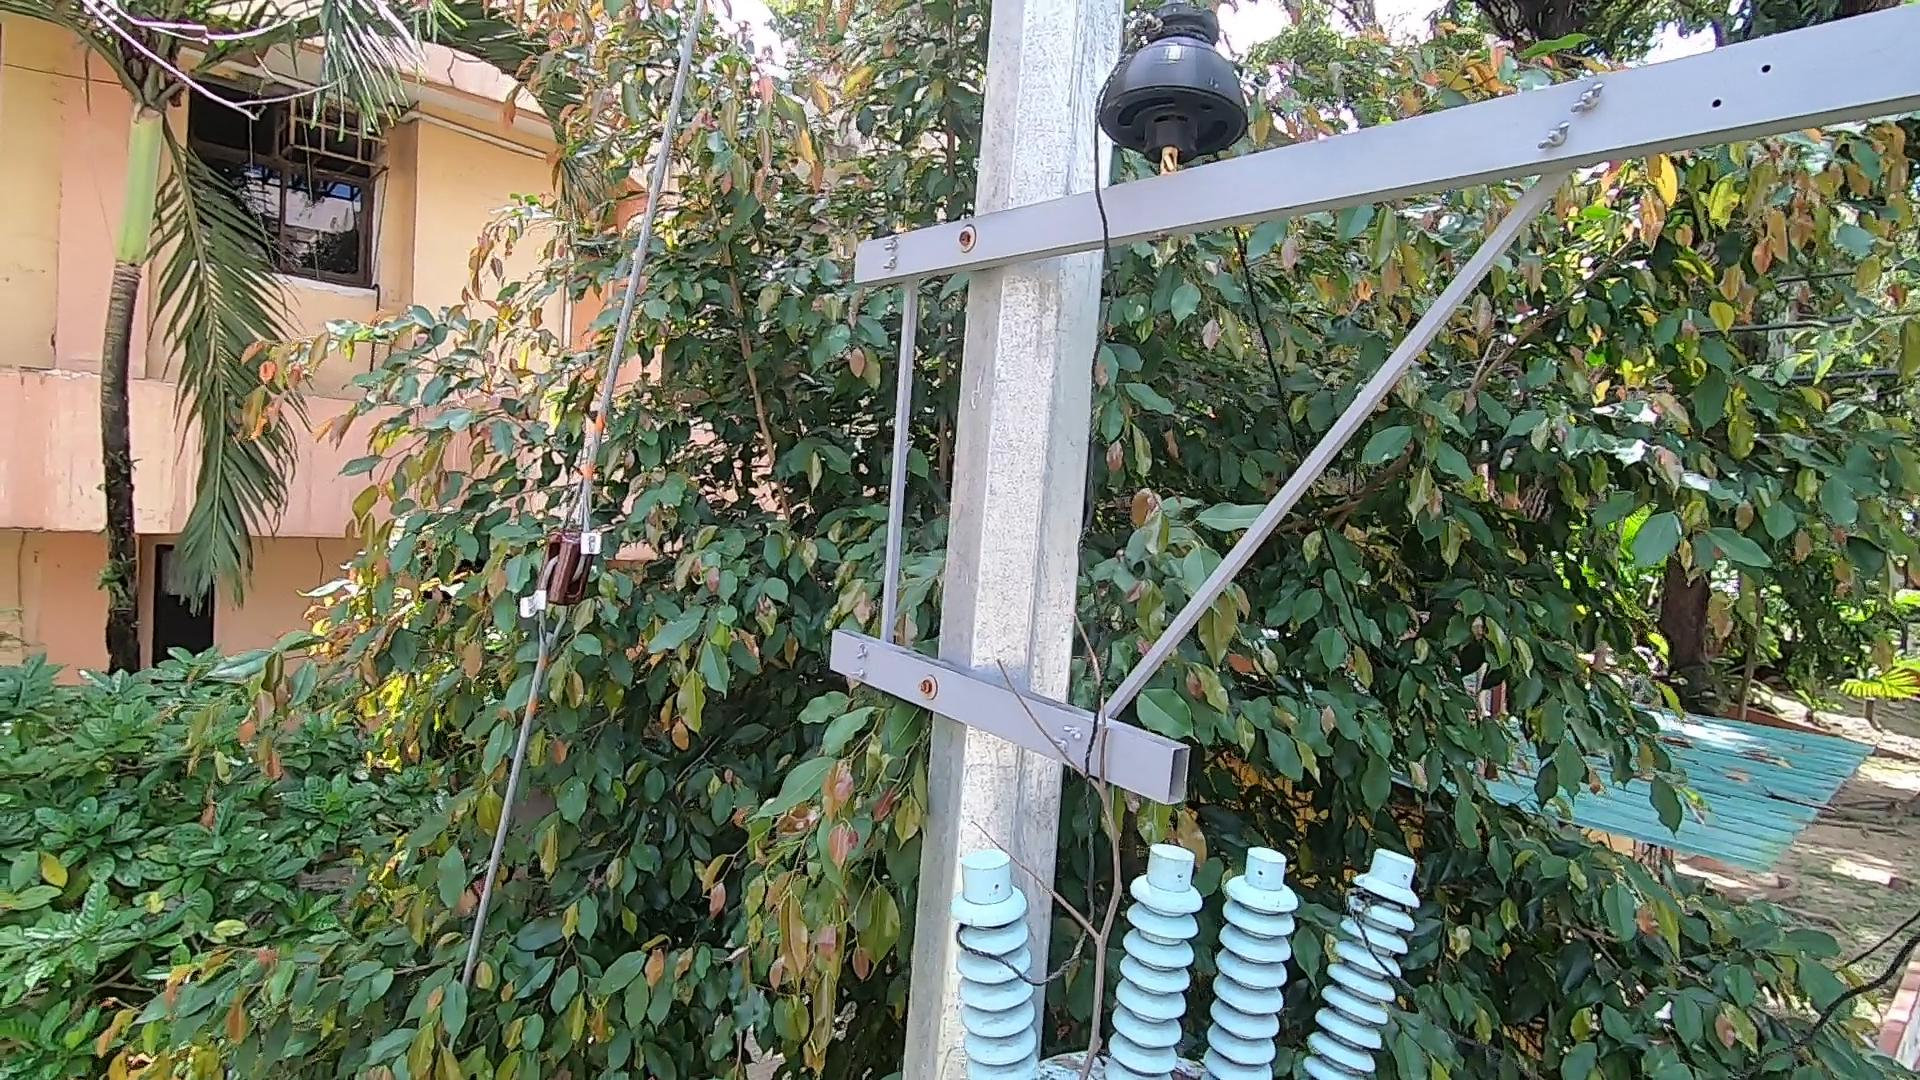tree branch: (963, 585, 1139, 1080)
